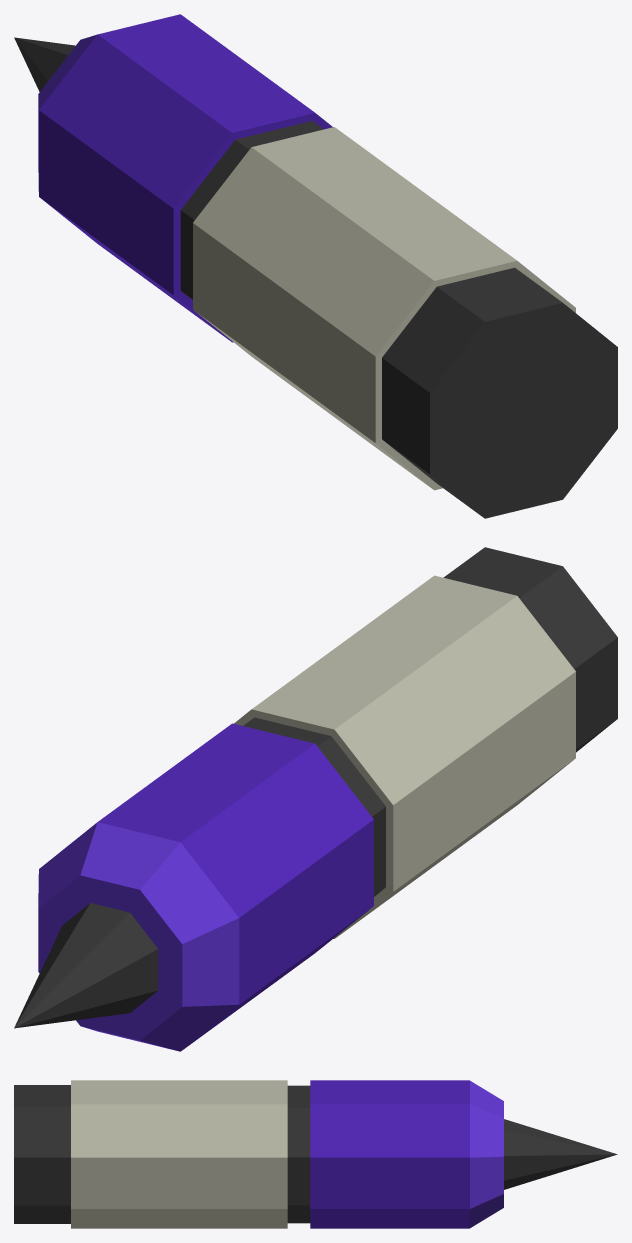
The model's file is ce_ammo_gae_chrifle_ion_a.obj.
3 views of the same model, one above another, from view 1: azimuth 30°, elevation 25°; view 2: azimuth 150°, elevation 25°; view 3: azimuth 270°, elevation 25° (orthographic). The views are drawn at different scales.
Visible parts, largest first — view 1: ce_ammo_gae_chrifle_ion_a_1, ce_ammo_gae_chrifle_ion_a_0, ce_ammo_gae_chrifle_ion_a_3, ce_ammo_gae_chrifle_ion_a_2, ce_ammo_gae_chrifle_ion_a_5, ce_ammo_gae_chrifle_ion_a_4; view 2: ce_ammo_gae_chrifle_ion_a_1, ce_ammo_gae_chrifle_ion_a_3, ce_ammo_gae_chrifle_ion_a_4, ce_ammo_gae_chrifle_ion_a_5, ce_ammo_gae_chrifle_ion_a_0, ce_ammo_gae_chrifle_ion_a_2; view 3: ce_ammo_gae_chrifle_ion_a_1, ce_ammo_gae_chrifle_ion_a_3, ce_ammo_gae_chrifle_ion_a_0, ce_ammo_gae_chrifle_ion_a_4, ce_ammo_gae_chrifle_ion_a_5, ce_ammo_gae_chrifle_ion_a_2.
Boxes of the visible parts, <box> form: ce_ammo_gae_chrifle_ion_a_1: <box>193,127,575,490</box>; ce_ammo_gae_chrifle_ion_a_0: <box>382,267,617,518</box>; ce_ammo_gae_chrifle_ion_a_3: <box>39,14,332,342</box>; ce_ammo_gae_chrifle_ion_a_2: <box>180,121,323,299</box>; ce_ammo_gae_chrifle_ion_a_5: <box>14,37,75,91</box>; ce_ammo_gae_chrifle_ion_a_4: <box>38,34,97,191</box>; ce_ammo_gae_chrifle_ion_a_1: <box>234,575,575,938</box>; ce_ammo_gae_chrifle_ion_a_3: <box>98,723,373,1049</box>; ce_ammo_gae_chrifle_ion_a_4: <box>38,822,239,1051</box>; ce_ammo_gae_chrifle_ion_a_5: <box>14,903,158,1028</box>; ce_ammo_gae_chrifle_ion_a_0: <box>443,547,617,752</box>; ce_ammo_gae_chrifle_ion_a_2: <box>243,717,385,896</box>; ce_ammo_gae_chrifle_ion_a_1: <box>71,1080,287,1228</box>; ce_ammo_gae_chrifle_ion_a_3: <box>310,1080,469,1228</box>; ce_ammo_gae_chrifle_ion_a_0: <box>14,1085,70,1223</box>; ce_ammo_gae_chrifle_ion_a_4: <box>470,1081,503,1227</box>; ce_ammo_gae_chrifle_ion_a_5: <box>504,1119,617,1189</box>; ce_ammo_gae_chrifle_ion_a_2: <box>287,1085,310,1223</box>.
Size of the model in its own units: 0.1202 by 0.1201 by 0.53.
